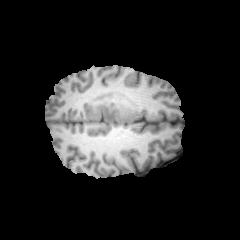glioma: (86, 91, 139, 123)
